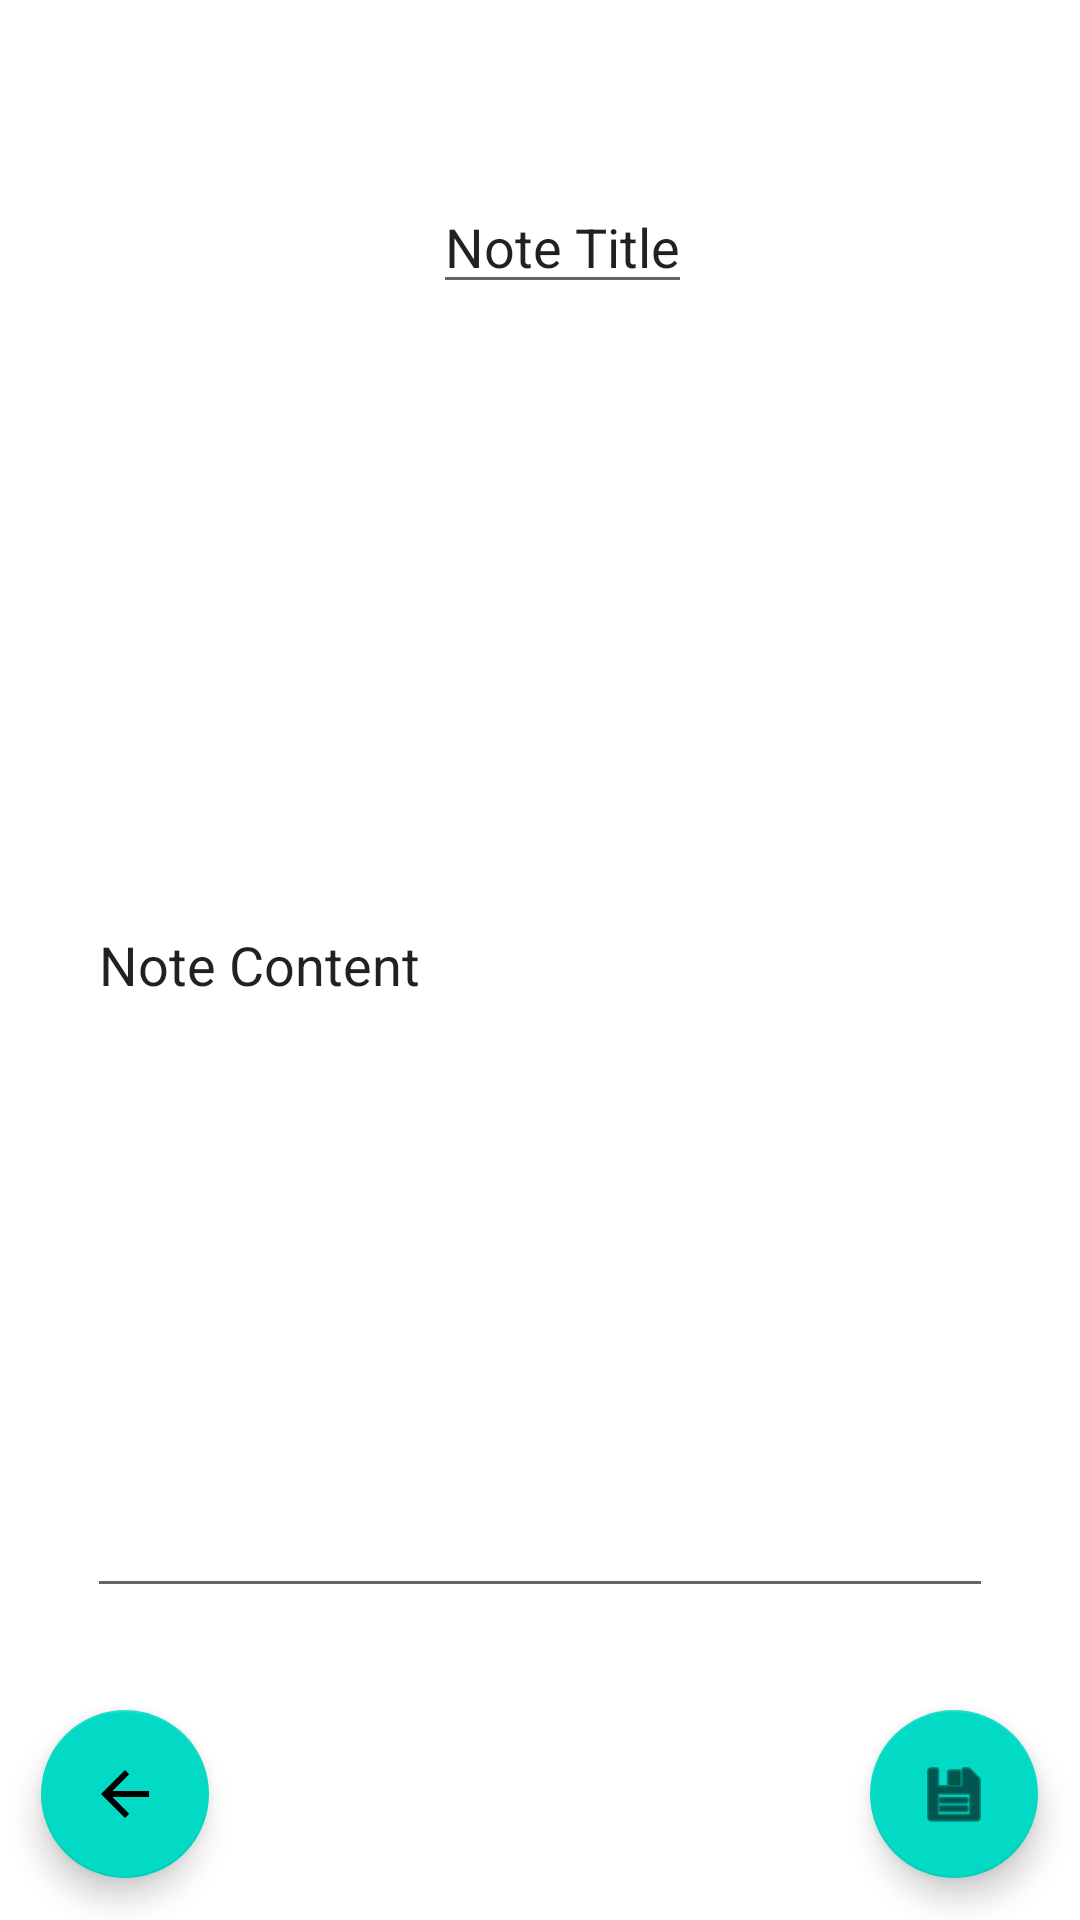

Point at icon controls on the screen. Image size 1080w x 1920h, points as [x,y].
save: [954,1794]
